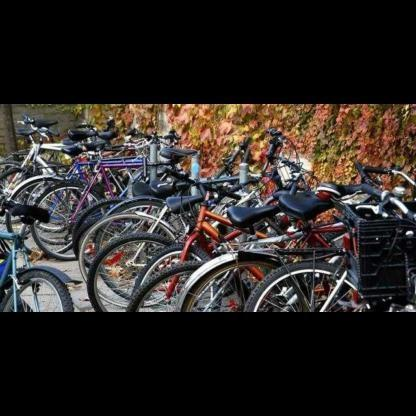Bicycle: (8, 164, 369, 305), (239, 171, 416, 320), (0, 195, 77, 324)
